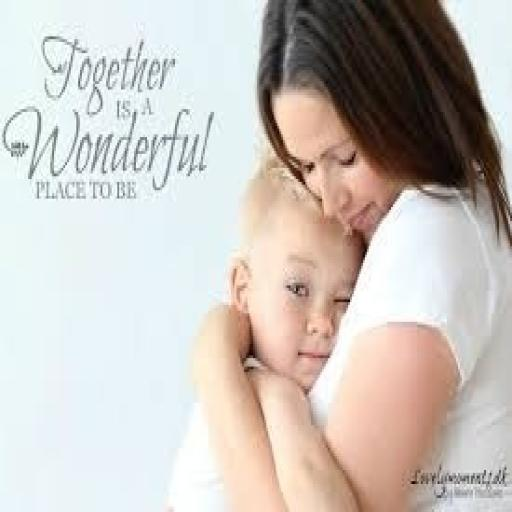hugging: (170, 0, 510, 509)
